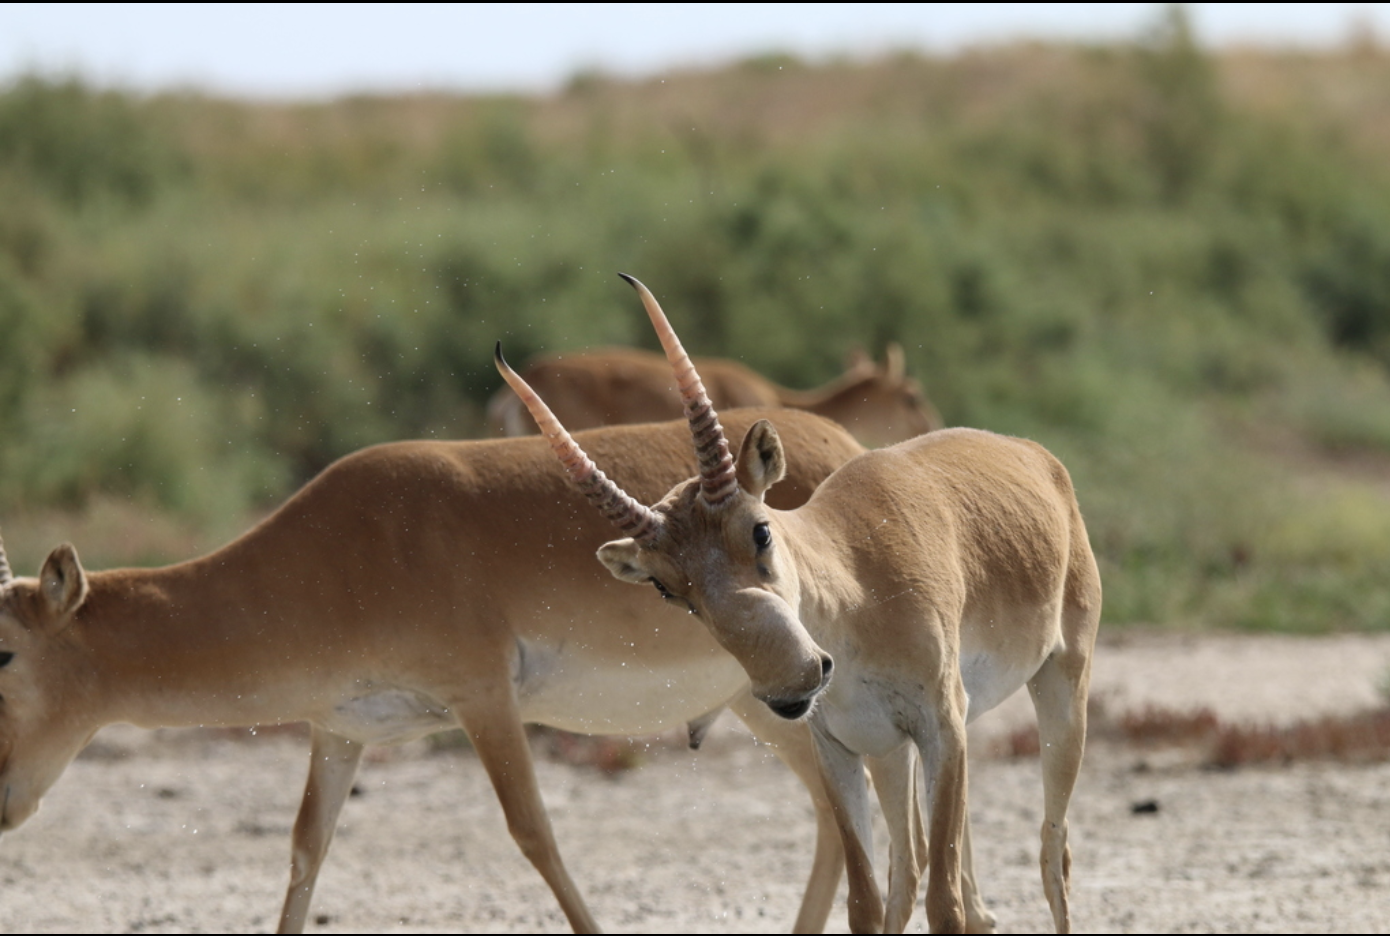saiga: (455, 241, 1118, 933)
